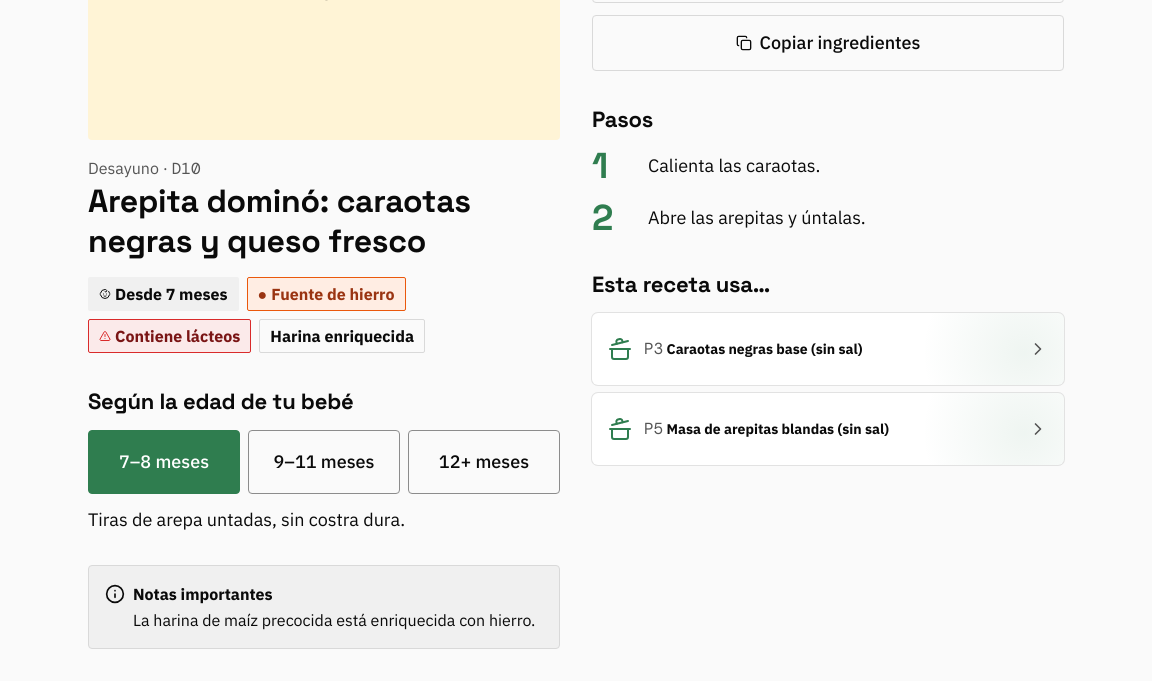
Test: detalle de receta › cambia la adaptación según el tramo de edad elegido
This screenshot has width=1152, height=681.
(page scrolled)
Check: the text "Tiras de arepa untadas, sin costra dura." is shown, box [88, 508, 405, 531]
Click the button "9–11 meses" at (324, 462), box [248, 430, 400, 494]
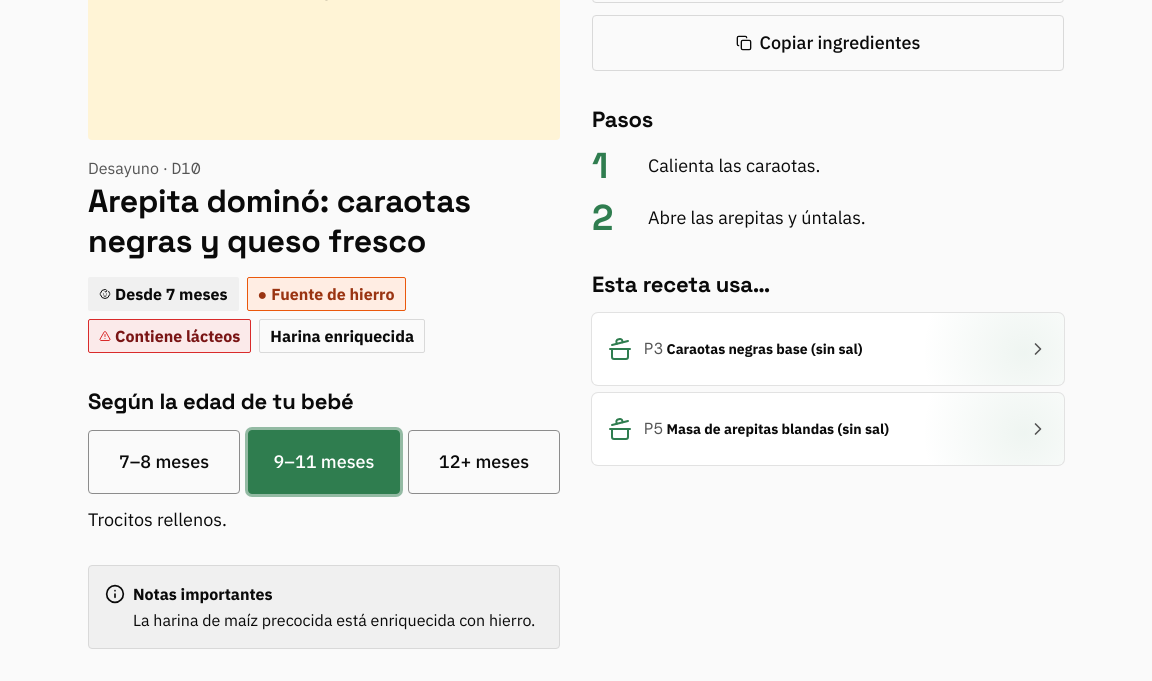
Check: the text "Trocitos rellenos." is shown, box [88, 508, 227, 531]
Check: the text "Tiras de arepa untadas, sin costra dura." is gone
